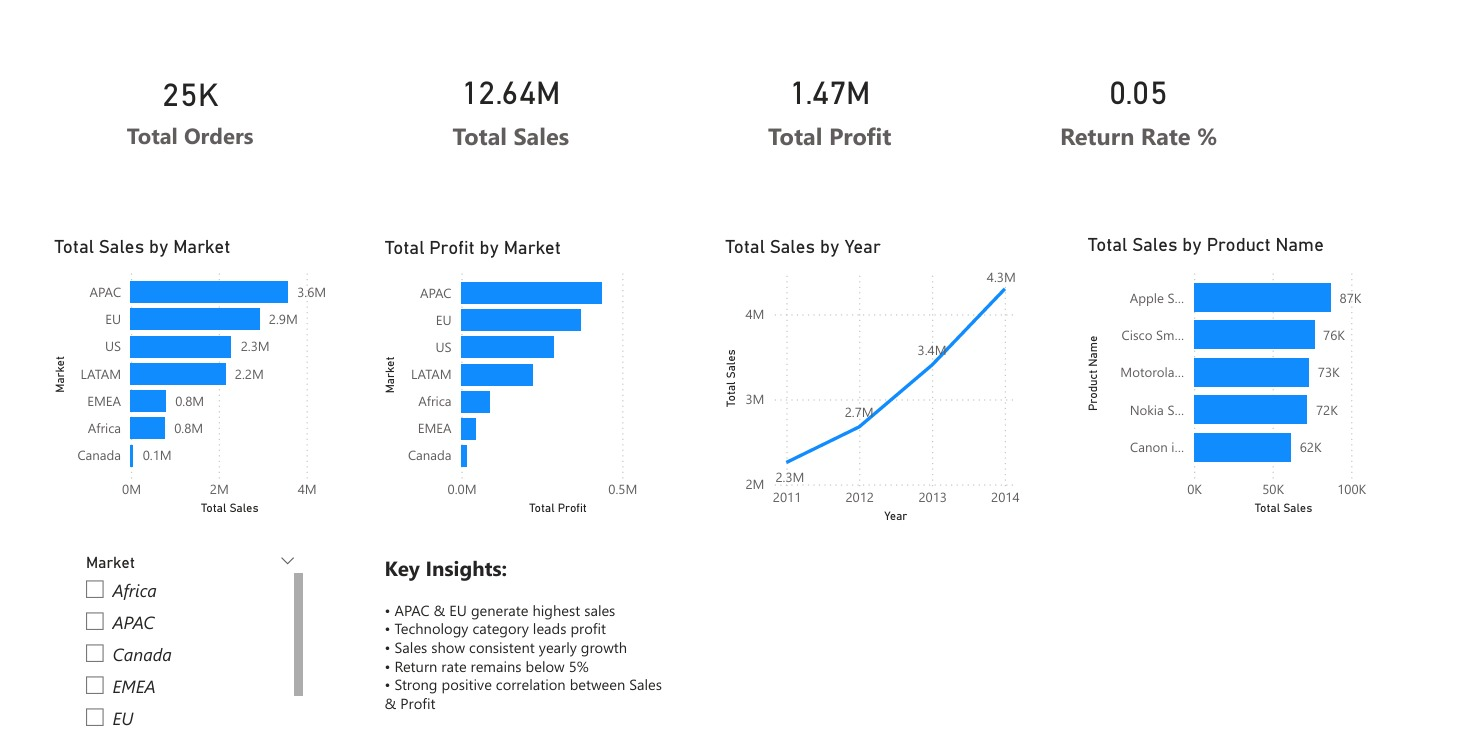

Layout of this report page (visuals, bound fields, positions):
{"tool":"powerbi","page":{"name":"Executive Overview","canvas":[1280,720],"ordinal":0},"visuals":[{"type":"card","fields":{"Values":["Orders.Total Orders"]},"box":[9.7,0,279.7,281],"z":0},{"type":"card","fields":{"Values":["Orders.Total Sales"]},"box":[300.5,0,279.7,279.7],"z":1000},{"type":"card","fields":{"Values":["Orders.Total Profit"]},"box":[589.9,0,279.7,279.7],"z":2000},{"type":"card","fields":{"Values":["Orders.Return Rate %"]},"box":[869.6,0,281,279.7],"z":3000},{"type":"clusteredBarChart","fields":{"Category":["Orders.Market"],"Y":["Orders.Total Sales"]},"box":[20.9,257.4,268.5,258.8],"z":4000},{"type":"lineChart","fields":{"Category":["Orders.Order Date.Variation.Date Hierarchy.Year","Orders.Order Date.Variation.Date Hierarchy.Quarter","Orders.Order Date.Variation.Date Hierarchy.Month","Orders.Order Date.Variation.Date Hierarchy.Day"],"Y":["Orders.Total Sales"]},"box":[630.3,257.4,276.9,265.7],"z":5000},{"type":"clusteredBarChart","fields":{"Category":["Orders.Product Name"],"Y":["Orders.Total Sales"]},"box":[958.6,254.6,283.8,261.6],"z":6000},{"type":"slicer","fields":{"Values":["Orders.Market"]},"box":[41.7,541.2,215.7,179.5],"z":7000},{"type":"clusteredBarChart","fields":{"Category":["Orders.Market"],"Y":["Orders.Total Profit"]},"box":[321.1,258,269,258],"z":8000},{"type":"textbox","box":[920.8,610.6,359.5,109.8],"z":9000},{"type":"textbox","box":[321,541,269,179],"z":10000}]}

Visuals, with their boxes on the page's 1280x720 design canvas (x1, y1, x2, y2). These are canvas units, not pixel positions in the 1458x738 screenshot, which may show the page scaled, cropped or inside an application window:
card - Orders.Total Orders: 10,0,289,281
card - Orders.Total Sales: 300,0,580,280
card - Orders.Total Profit: 590,0,870,280
card - Orders.Return Rate %: 870,0,1151,280
clusteredBarChart - Orders.Market x Orders.Total Sales: 21,257,289,516
lineChart - Orders.Order Date.Variation.Date Hierarchy.Year x Orders.Order Date.Variation.Date Hierarchy.Quarter: 630,257,907,523
clusteredBarChart - Orders.Product Name x Orders.Total Sales: 959,255,1242,516
slicer - Orders.Market: 42,541,257,721
clusteredBarChart - Orders.Market x Orders.Total Profit: 321,258,590,516
textbox: 921,611,1280,720
textbox: 321,541,590,720
